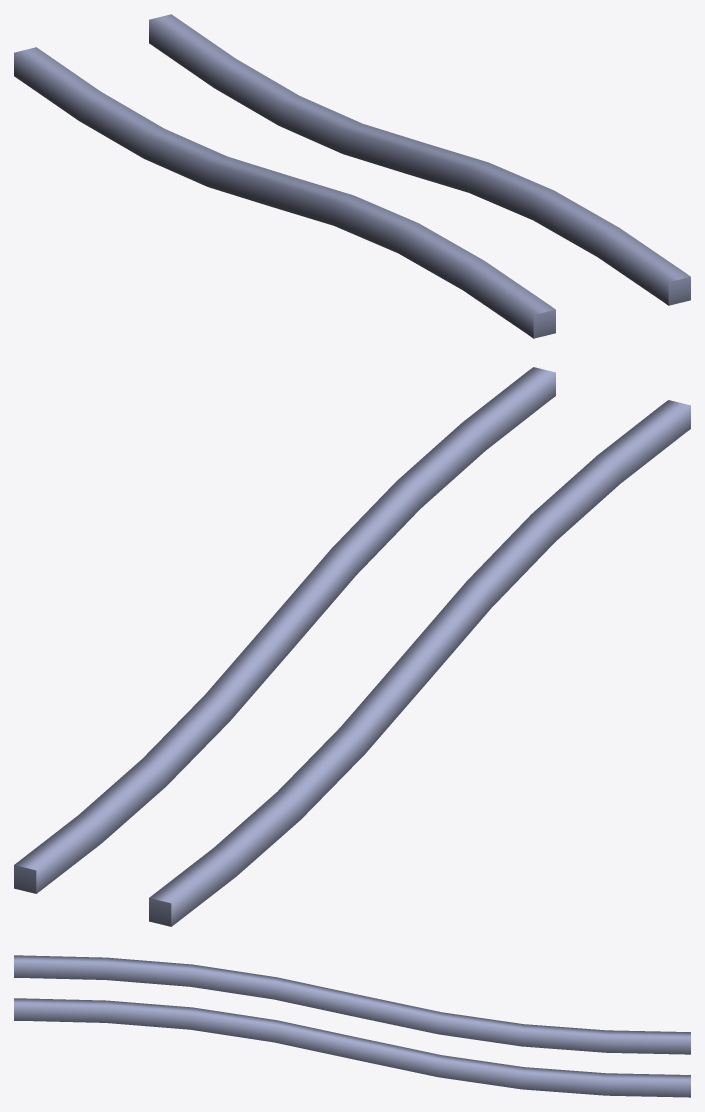
Rendered from railroad-rail-straight-hill-complete-half.glb.
The picture shows the model from 3 angles, top to bottom: view 1: azimuth 30°, elevation 25°; view 2: azimuth 150°, elevation 25°; view 3: azimuth 270°, elevation 25°; orthographic projection. The views are drawn at different scales.
Visible parts, largest first — view 1: railroad-rail-straight-hill-complete-half; view 2: railroad-rail-straight-hill-complete-half; view 3: railroad-rail-straight-hill-complete-half.
Boxes of the visible parts, x1=… form: railroad-rail-straight-hill-complete-half: x1=14, y1=14, x2=690, y2=338; railroad-rail-straight-hill-complete-half: x1=14, y1=367, x2=690, y2=926; railroad-rail-straight-hill-complete-half: x1=14, y1=955, x2=690, y2=1097.
Bounding box in the file's own units: 0.7 × 0.6 × 4.
